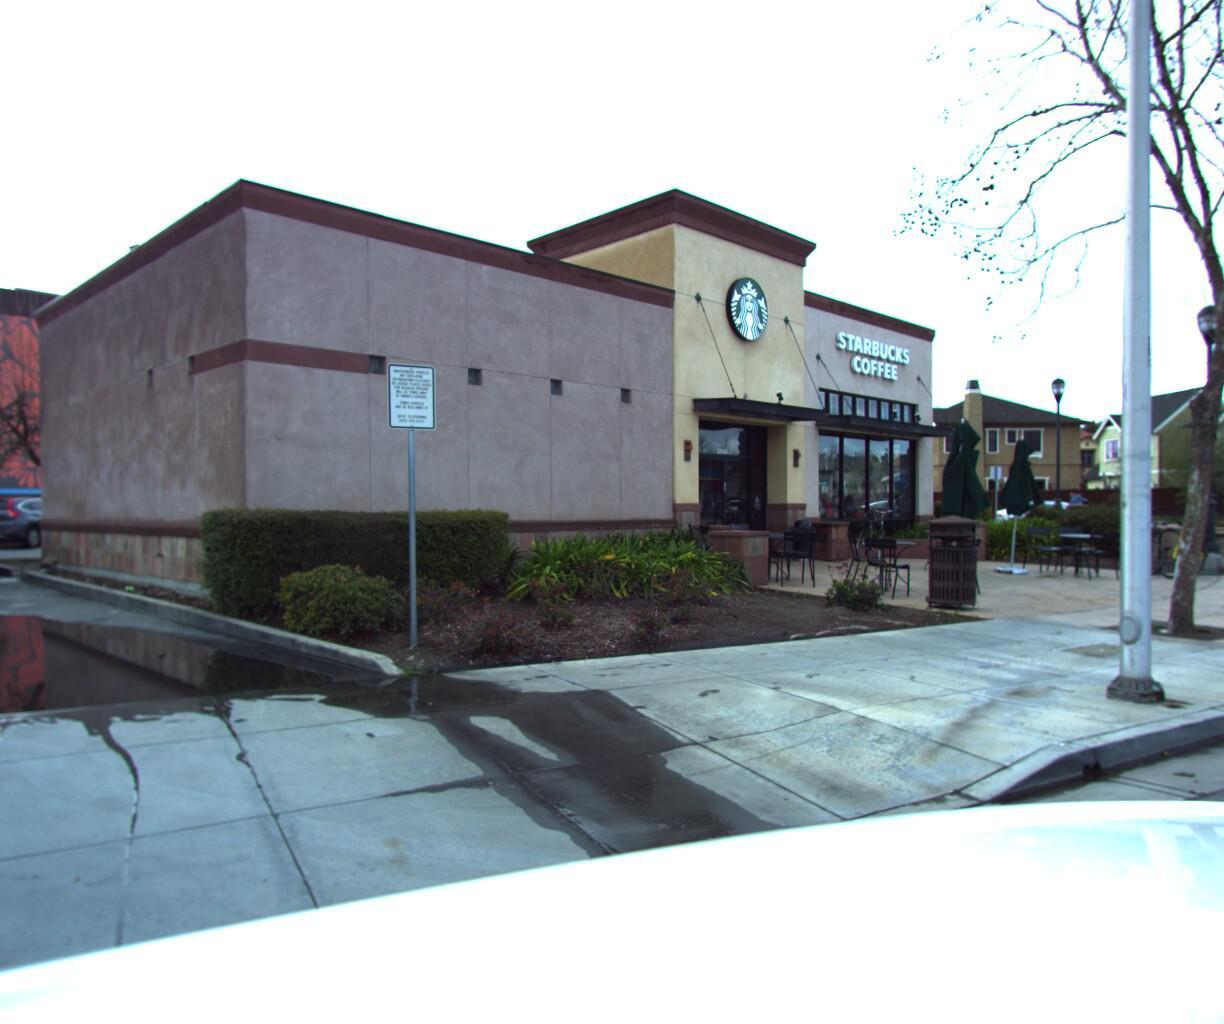bicycle: (1122, 508, 1184, 578), (1164, 513, 1223, 579)
